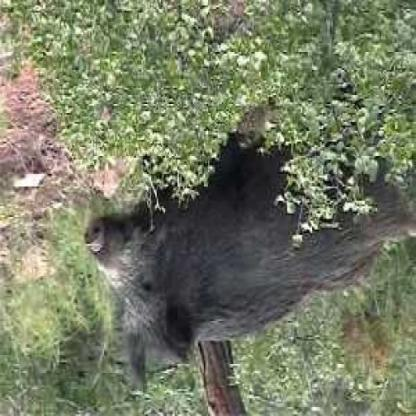boar: (95, 61, 415, 393)
